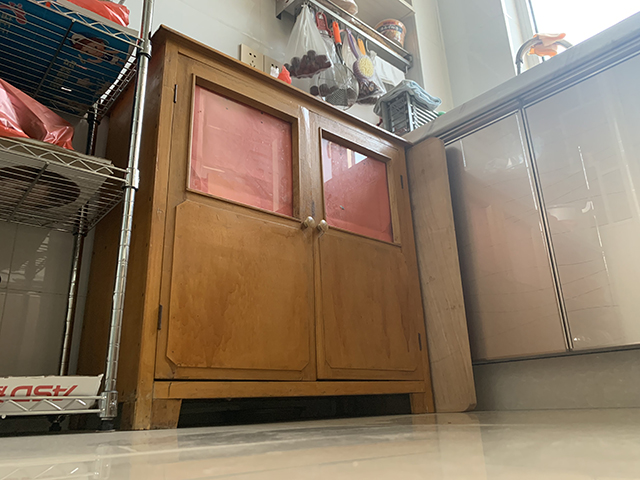cabinet: (68, 22, 437, 432), (399, 11, 640, 411)
